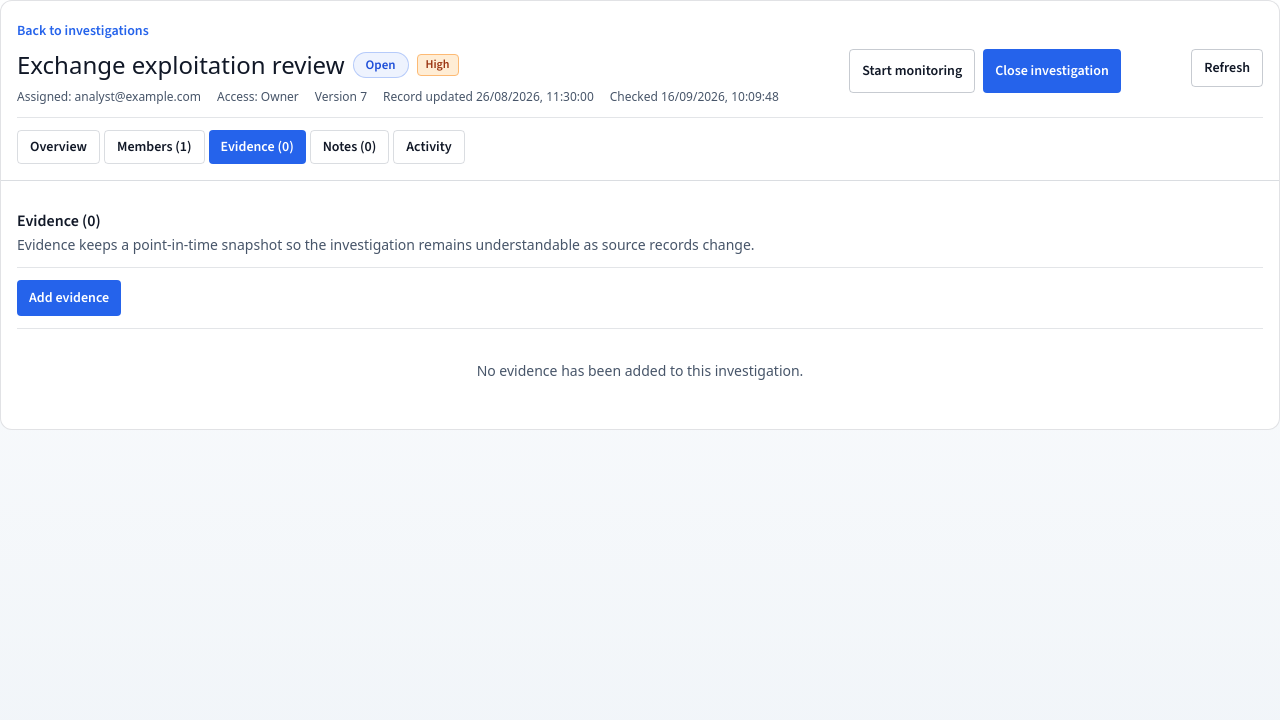
Test case: Investigation evidence finder › keeps explicit indicator browsing available without a search term
The image size is (1280, 720).
Click the button "Add evidence" at (69, 298), box x1=17 y1=280 x2=121 y2=316
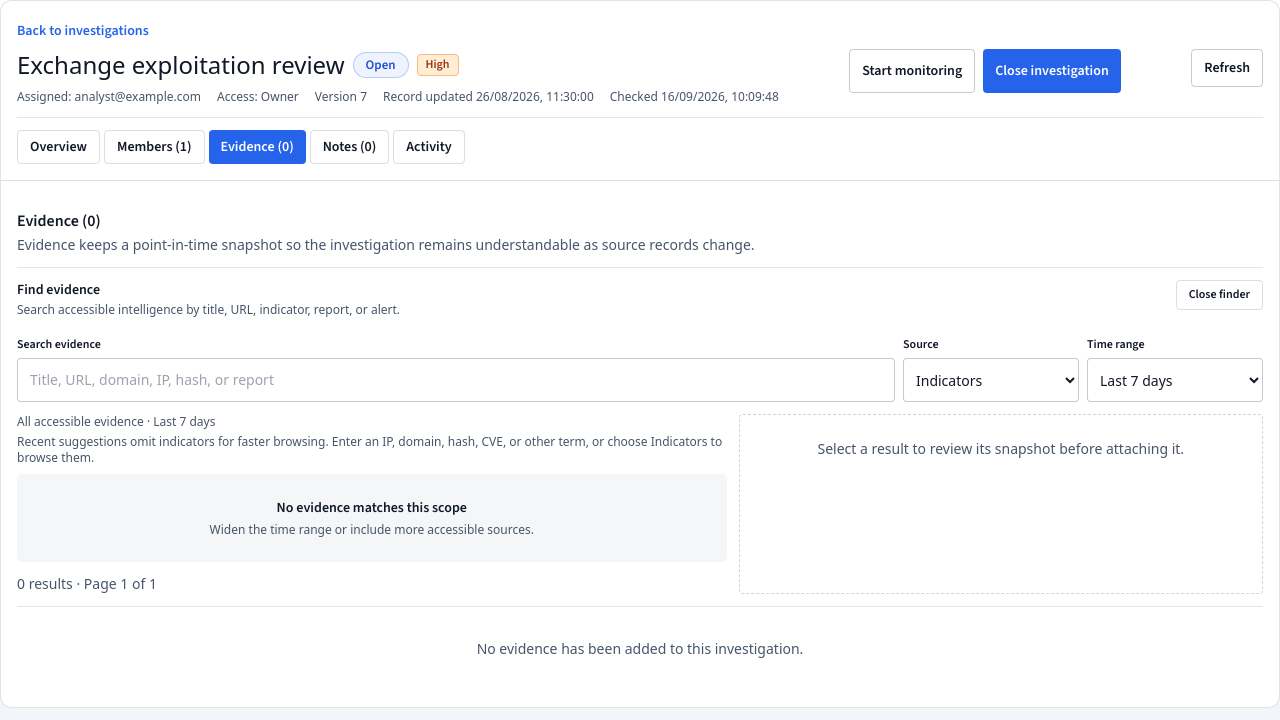
Expected: the text "evil.example" is not shown
Select "Indicators" in the dropdown with id "investigation-evidence-source-filter" at (991, 380), box x1=903 y1=358 x2=1079 y2=402
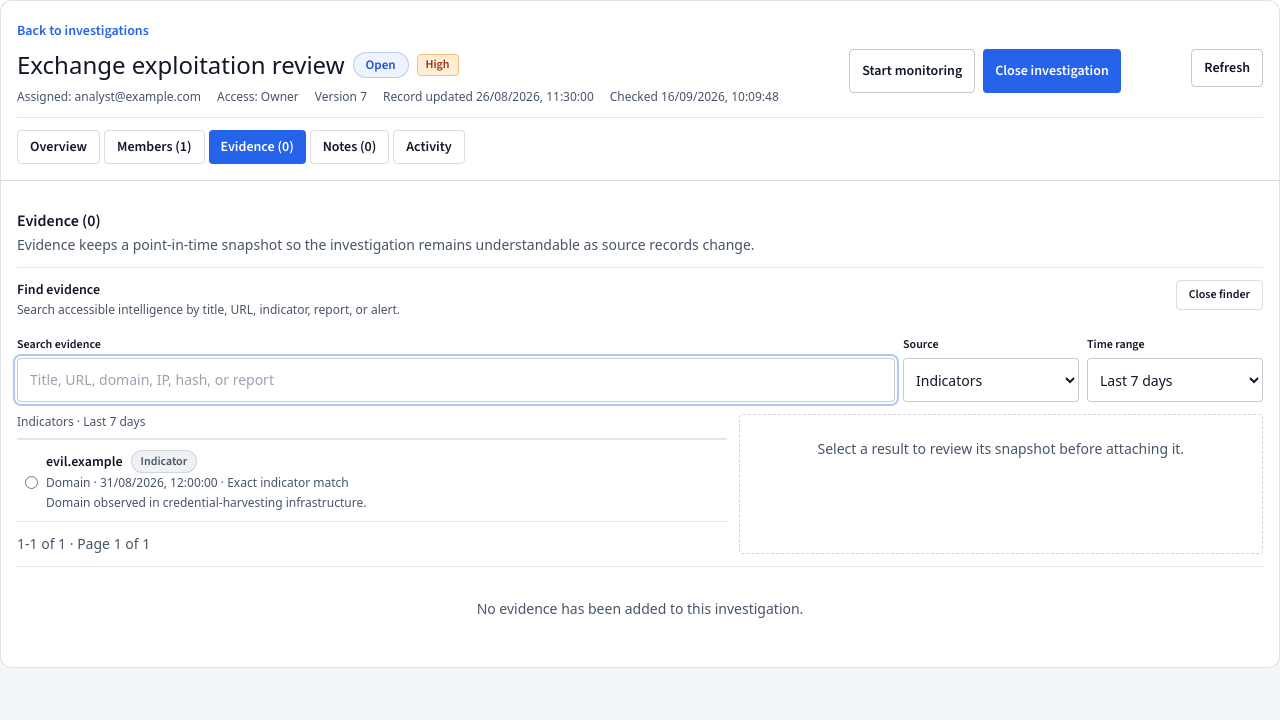
Expected: the text "evil.example" is shown, x1=46 y1=452 x2=122 y2=472
Expected: the text "Recent suggestions omit indicators" is gone
